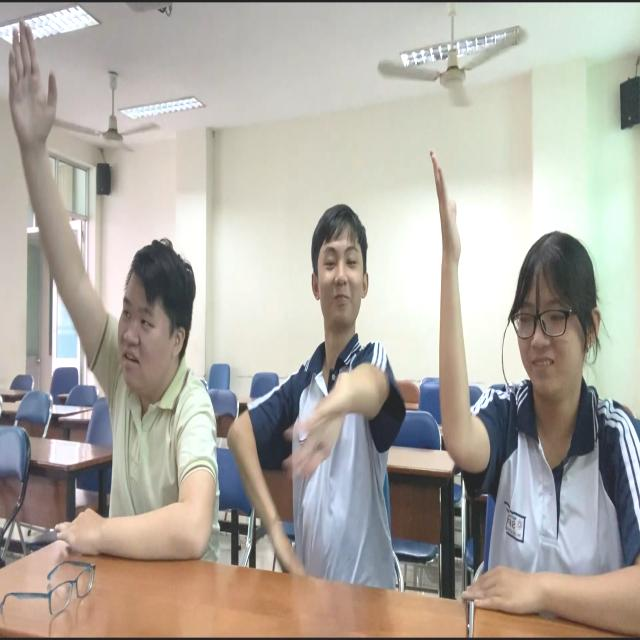raise_hand: (10, 20, 221, 600), (418, 148, 640, 640)
